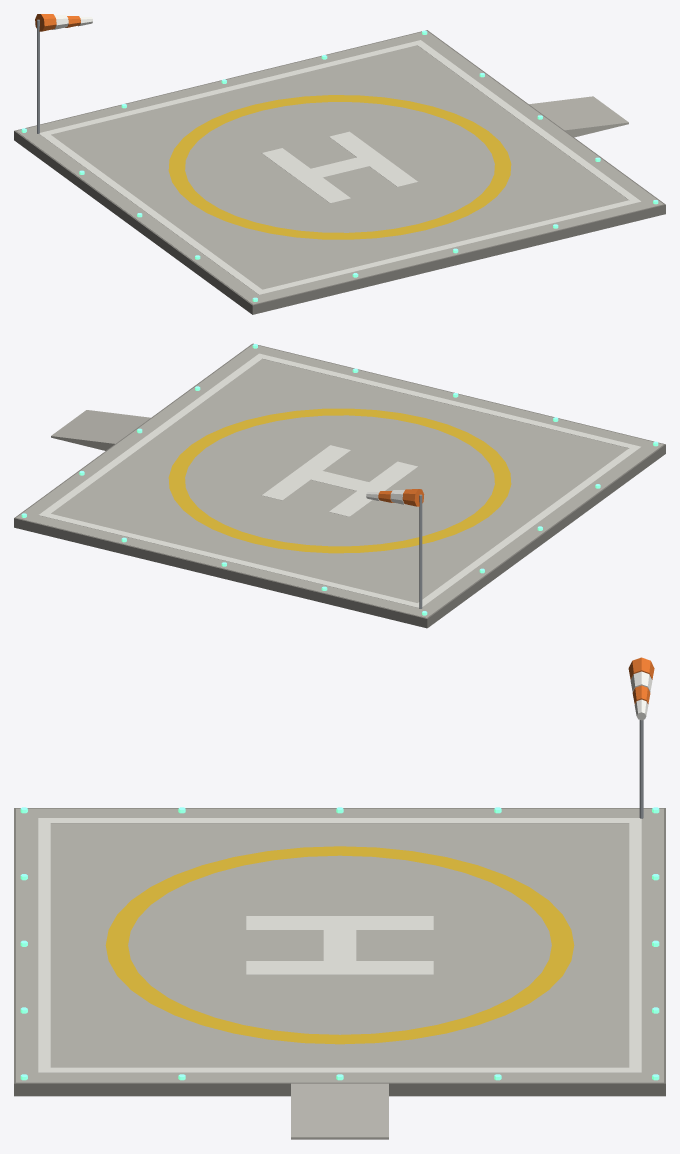
Rendered from PD_Helipad.fbx.
3 renders of one model, top to bottom at view 1: azimuth 30°, elevation 25°; view 2: azimuth 150°, elevation 25°; view 3: azimuth 270°, elevation 25°, orthographic. The views are drawn at different scales.
Visible parts, largest first — view 1: PD_Helipad_Mesh; view 2: PD_Helipad_Mesh; view 3: PD_Helipad_Mesh.
Part boxes in pixels (x1=…): PD_Helipad_Mesh: x1=14, y1=14, x2=665, y2=314; PD_Helipad_Mesh: x1=14, y1=343, x2=665, y2=628; PD_Helipad_Mesh: x1=14, y1=657, x2=665, y2=1139.
Bounding box in the file's own units: 18.5 × 4.75 × 16.
